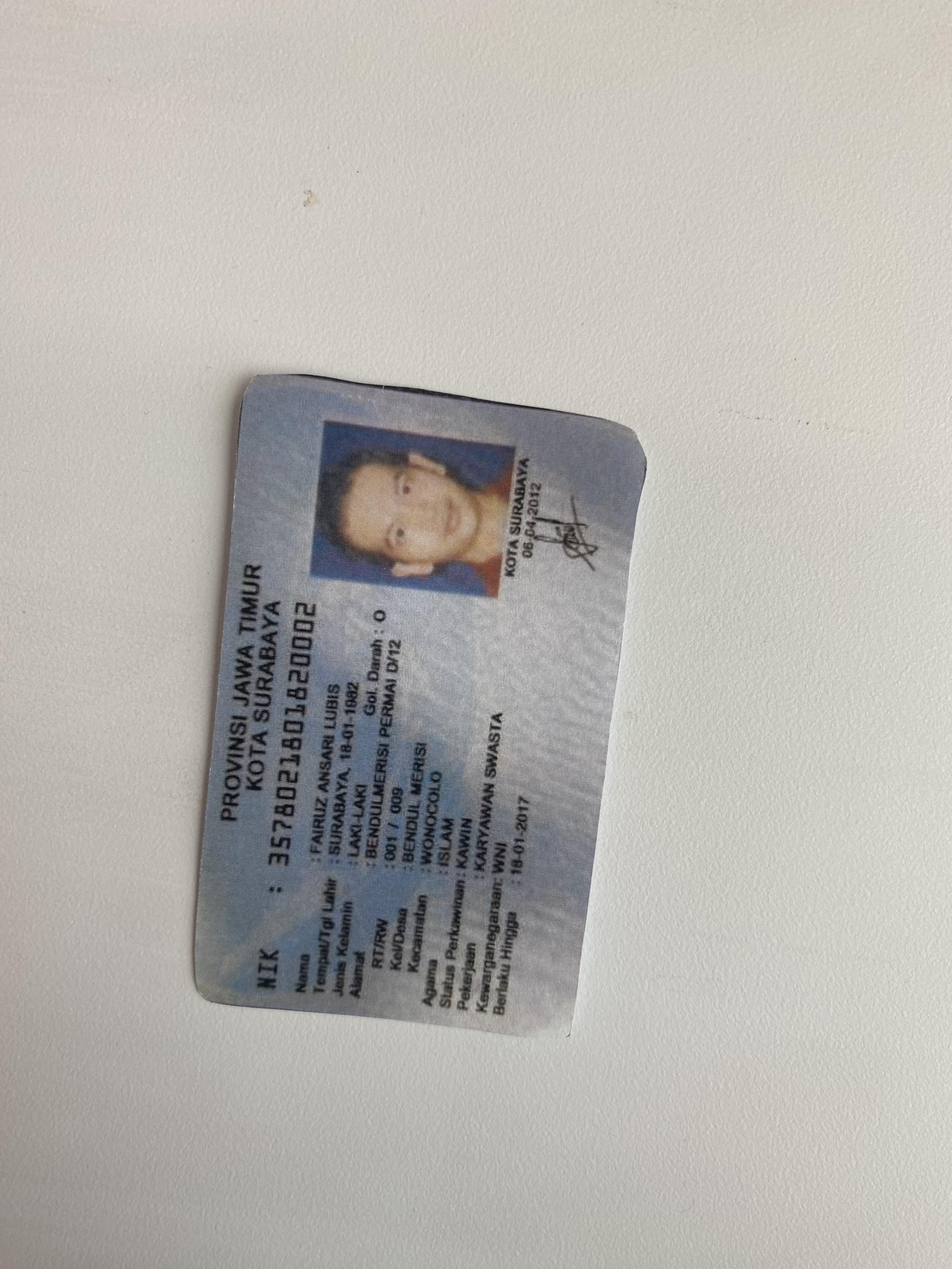ktp: (190, 375, 651, 1032)
